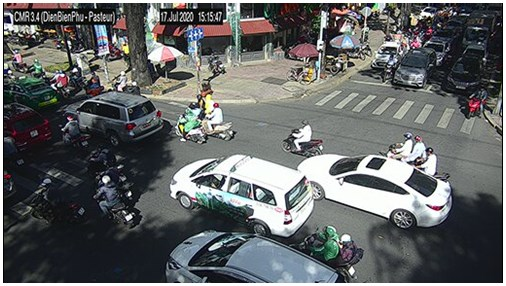xe_hoi: (169, 153, 314, 237), (296, 154, 453, 230), (165, 229, 346, 283), (74, 92, 163, 146), (4, 103, 53, 151), (395, 47, 437, 89), (5, 79, 59, 110), (442, 55, 482, 92), (372, 41, 401, 67), (423, 39, 446, 64), (461, 43, 488, 63)
xe_may: (288, 225, 363, 283), (30, 179, 86, 224), (94, 175, 135, 228), (280, 120, 324, 157), (88, 143, 128, 183), (380, 132, 426, 163), (174, 104, 205, 145), (60, 115, 89, 158), (203, 103, 233, 141), (466, 84, 488, 120), (416, 147, 438, 177), (48, 70, 68, 98), (109, 69, 129, 92), (25, 59, 44, 81), (382, 54, 395, 83), (11, 49, 25, 72)
xe_tai: (462, 12, 495, 48)
